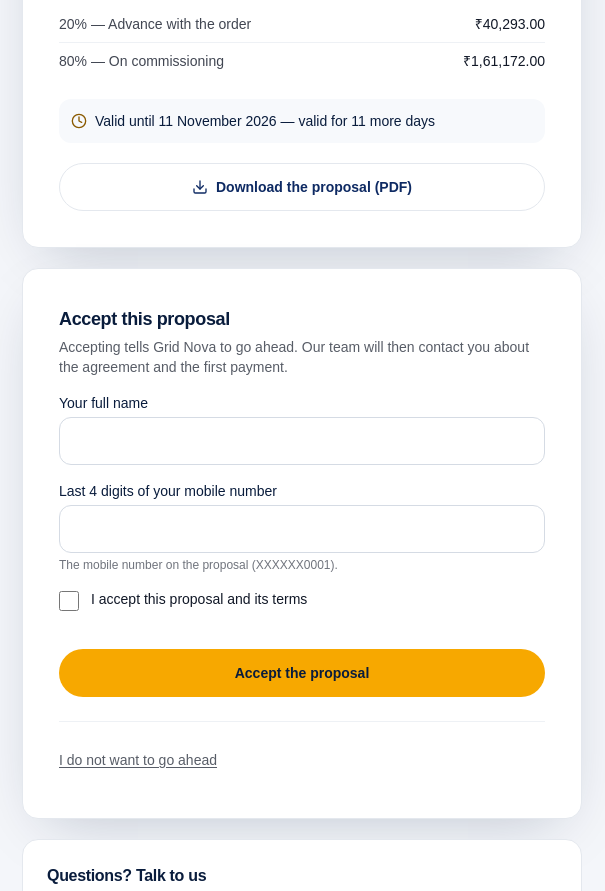
the online proposal page › wrong last 4 digits: the customer is told plainly and can try again
(page scrolled)
Type "Test Kumar Das" into the field labelled "Your full name" at (302, 441), box [59, 417, 545, 465]
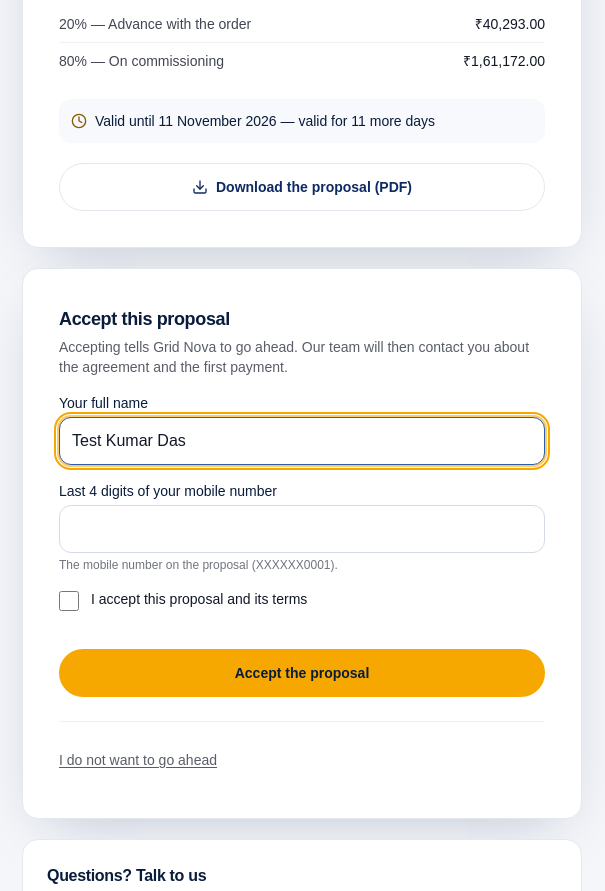
Type "1234" into the field labelled "Last 4 digits of your mobile number" at (302, 529), box [59, 505, 545, 553]
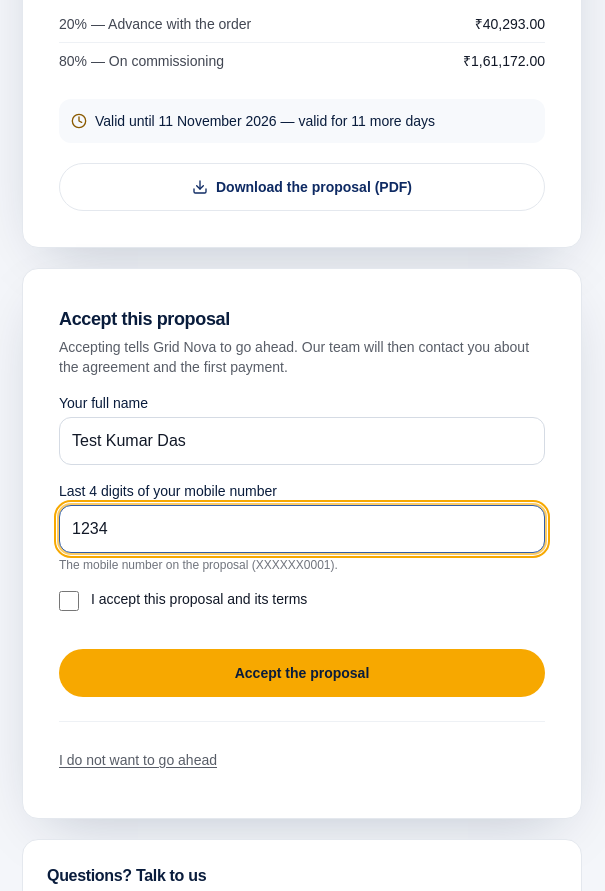
Click the checkbox labelled "I accept this proposal and its terms" at (69, 601), box [59, 591, 79, 611]
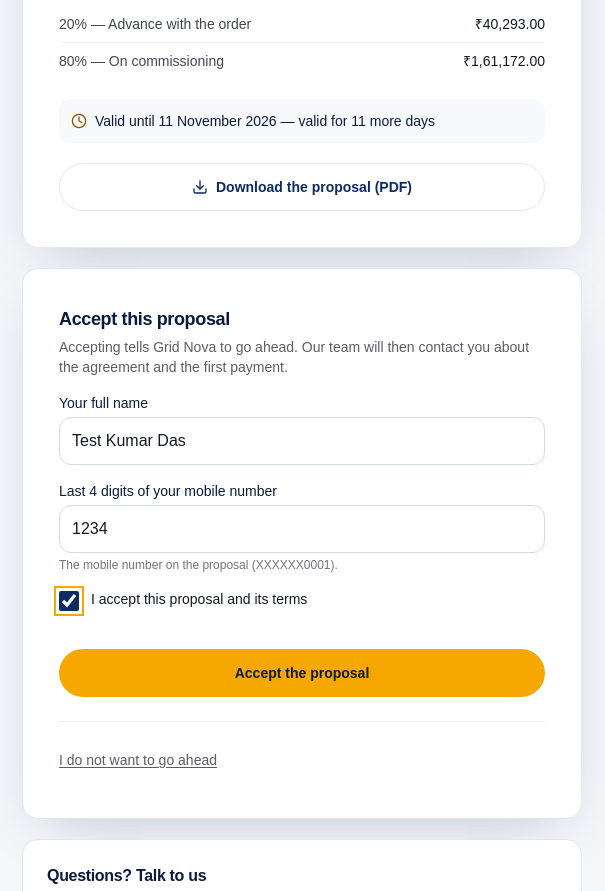
Click the button with test id "accept-submit" at (302, 673), box [59, 649, 545, 697]
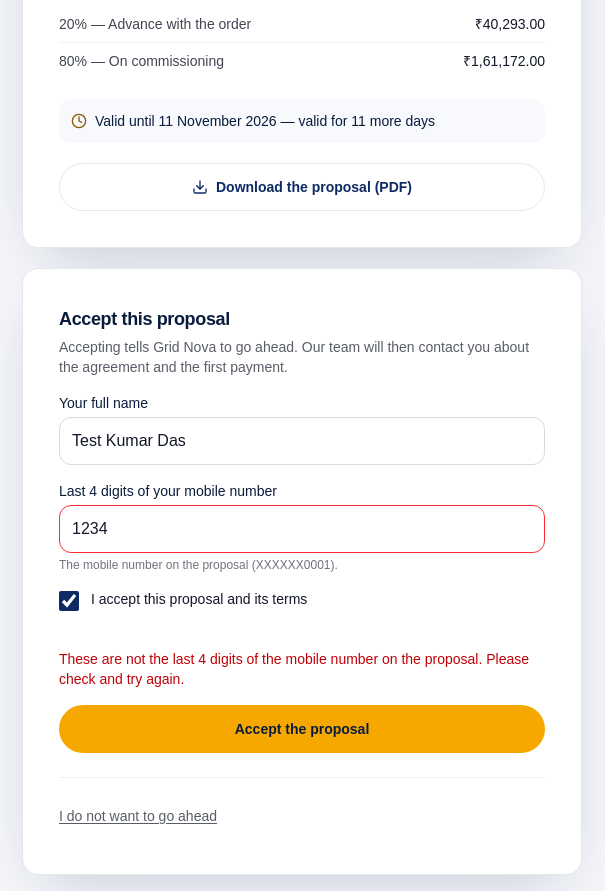
expect the element labelled "Last 4 digits" shows "XXXXXX0001": met, box [248, 558, 334, 572]
expect the message shows "not the last 4 digits of the mobile number on the proposal": met, box [59, 651, 529, 687]
